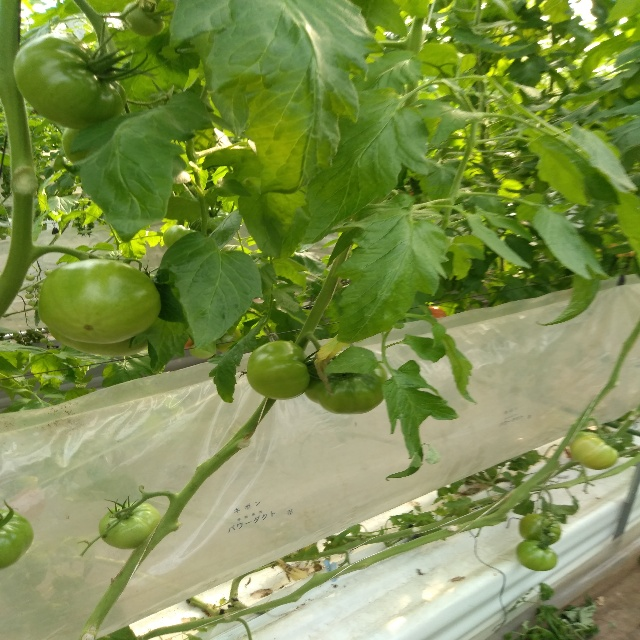b_green: (13, 34, 126, 129), (37, 259, 162, 344), (305, 350, 389, 415), (246, 341, 311, 399), (99, 503, 162, 549), (48, 328, 148, 356), (0, 507, 34, 570), (570, 435, 619, 470), (122, 1, 165, 37), (516, 539, 558, 572), (519, 513, 561, 545), (163, 224, 196, 248)
